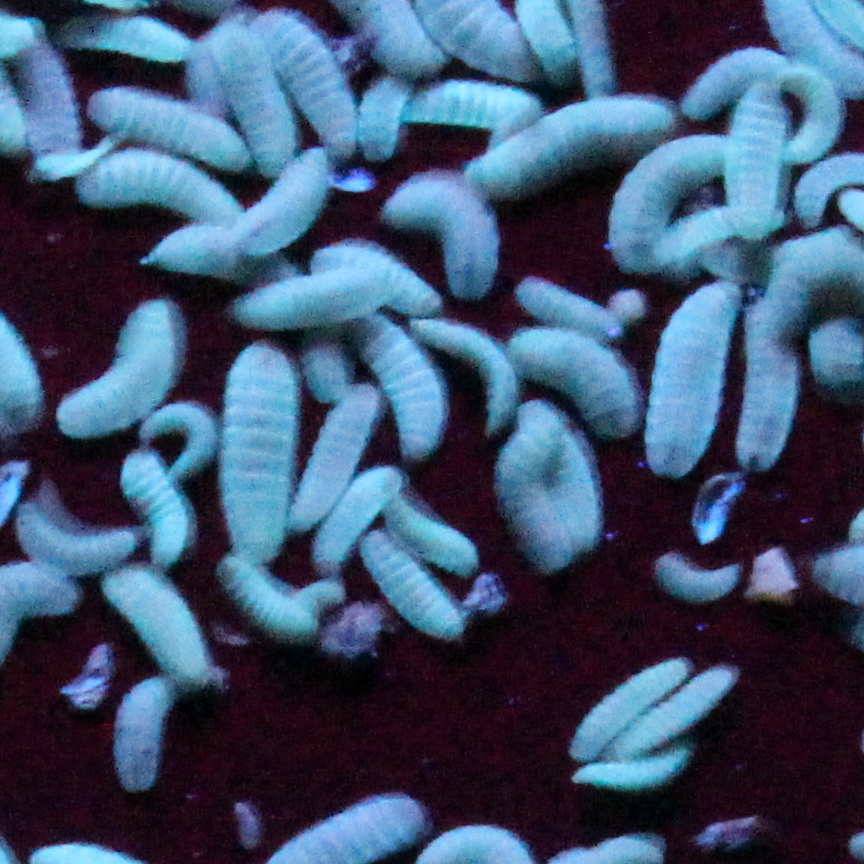larve: (149, 150, 332, 263), (614, 125, 734, 290), (649, 273, 732, 485), (467, 103, 674, 188), (374, 175, 517, 295), (494, 415, 594, 578), (222, 348, 297, 560), (524, 393, 622, 553), (98, 562, 220, 688), (62, 298, 182, 425), (722, 290, 804, 475), (259, 15, 364, 158), (209, 530, 332, 643), (77, 150, 249, 230), (712, 90, 802, 240), (89, 90, 257, 168), (564, 648, 689, 748), (12, 496, 150, 586), (509, 335, 634, 433), (289, 388, 374, 530), (624, 665, 734, 773), (359, 530, 467, 638), (562, 723, 699, 805), (367, 310, 444, 453), (214, 38, 302, 158), (412, 323, 517, 418), (307, 243, 444, 310), (106, 678, 182, 798), (509, 275, 622, 348), (17, 30, 77, 163), (249, 270, 374, 323), (389, 83, 554, 120), (149, 395, 222, 478), (652, 553, 747, 615), (307, 348, 357, 413)
